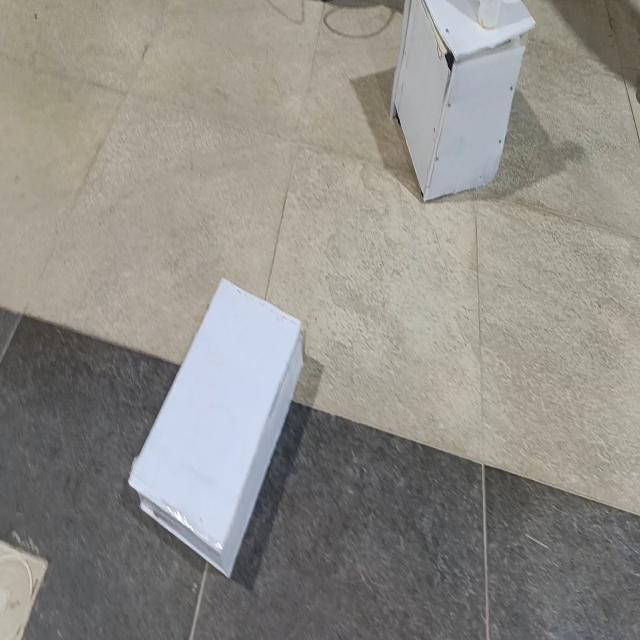Cube: (389, 0, 536, 203)
Cuboid: (127, 274, 305, 580)
